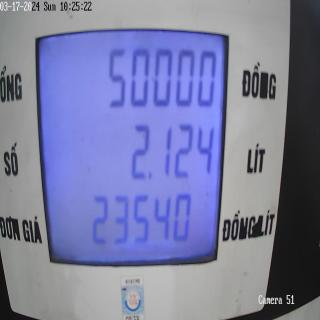screen: (32, 10, 234, 275)
